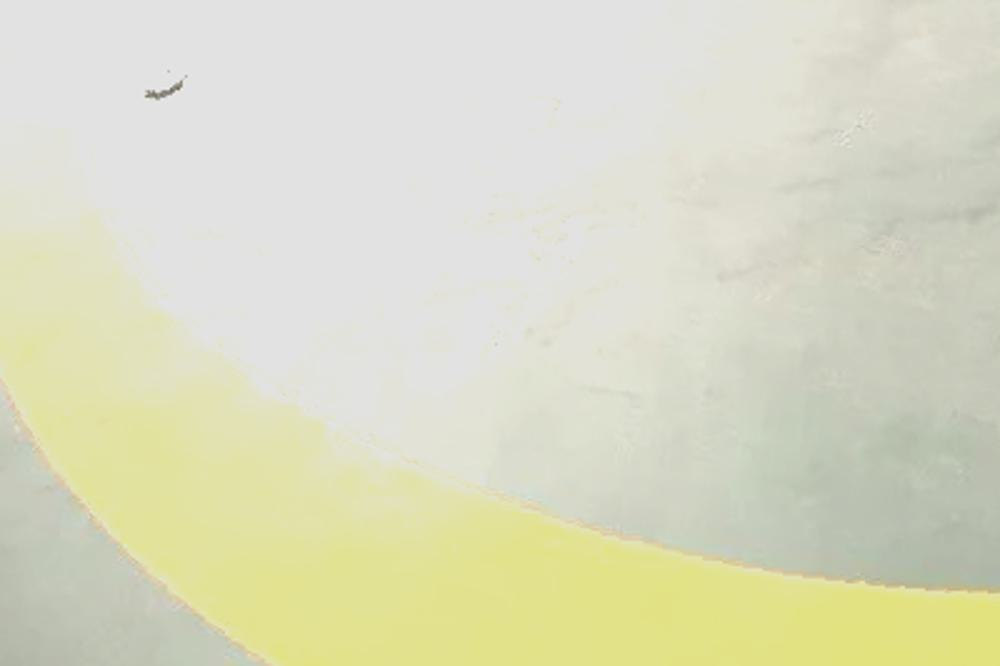Apron: (1, 31, 1000, 666)
